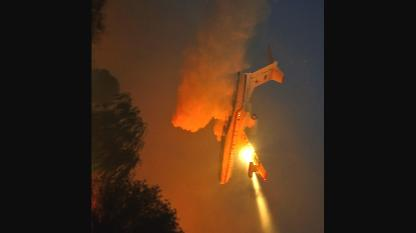B52: (218, 43, 286, 184)
